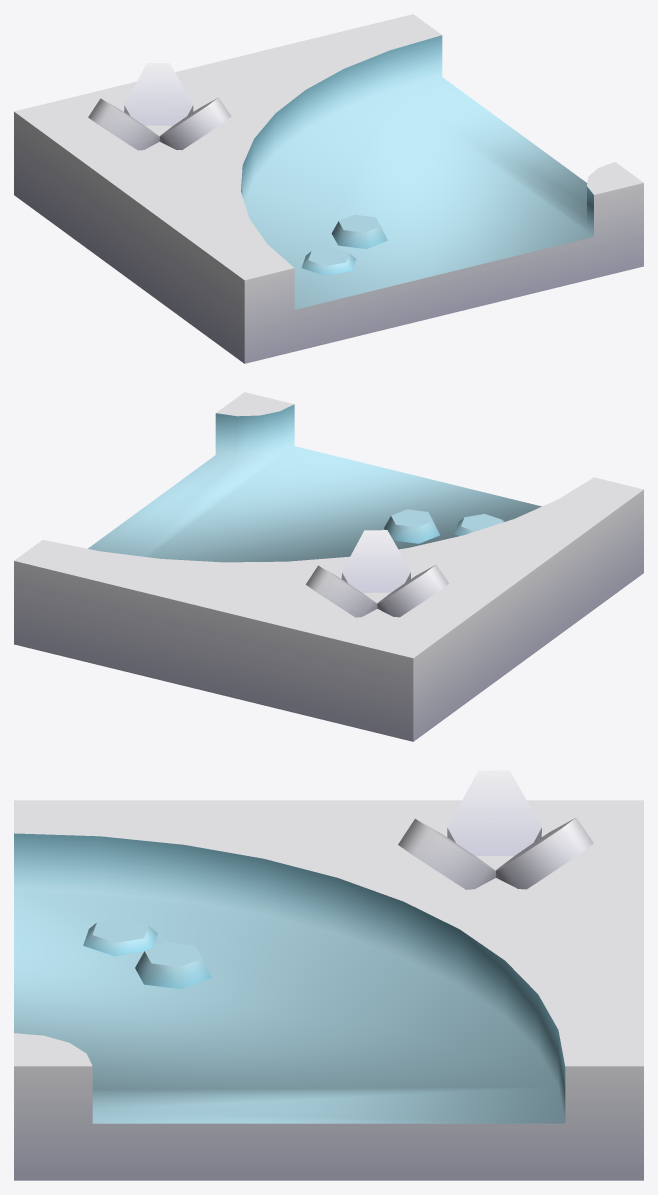
The model's file is snow-tile-corner-round.gltf.
The picture shows the model from 3 angles, top to bottom: view 1: azimuth 30°, elevation 25°; view 2: azimuth 150°, elevation 25°; view 3: azimuth 270°, elevation 25°; orthographic projection. The views are drawn at different scales.
Parts seen in each view (by area): view 1: snow-tile-corner-round; view 2: snow-tile-corner-round; view 3: snow-tile-corner-round.
Boxes of the visible parts, x1,y1,x2,y2 form: snow-tile-corner-round: (14,14,643,363); snow-tile-corner-round: (14,392,643,741); snow-tile-corner-round: (14,770,643,1180).
Bounding box in the file's own units: 1 × 0.296 × 1.
1 material, 1 textured.
